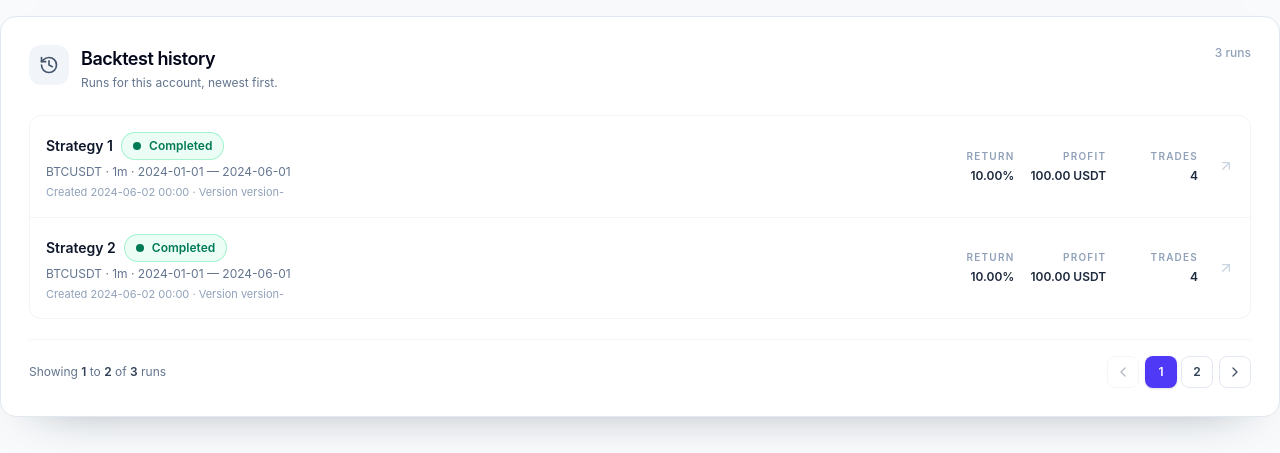
Test: BacktestHistoryList › paginates items and handles page navigation
Check: the heading "Strategy 1" is shown, box 46,136 -> 113,156
Check: the heading "Strategy 2" is shown, box 46,238 -> 116,258
Click the button named "Next page": click(1235, 372) 1219,356 -> 1251,388
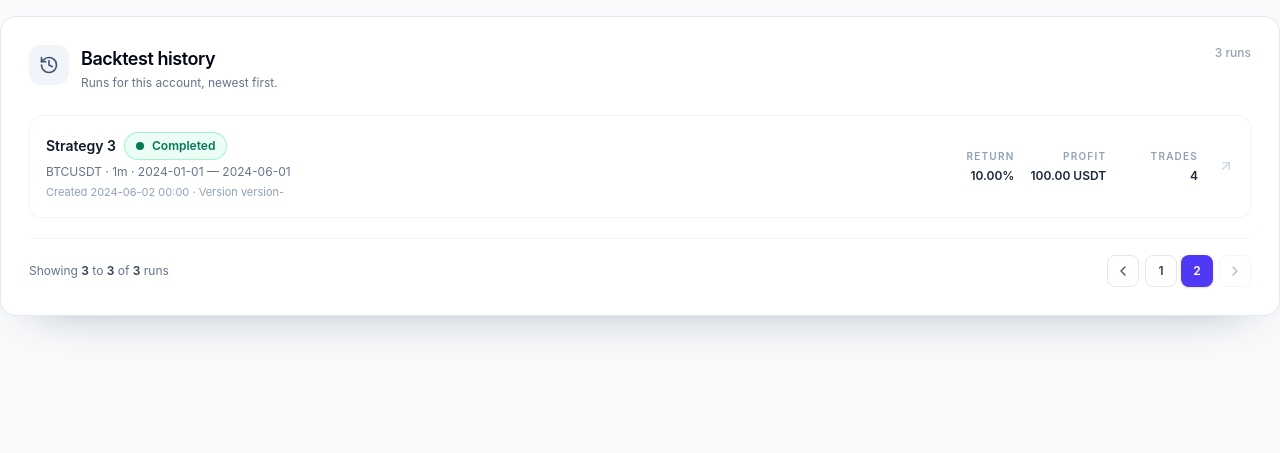
Check: the link "Strategy 1" is gone
Check: the link "Strategy 2" is gone
Check: the heading "Strategy 3" is shown, box 46,136 -> 116,156
Click the button named "Previous page": click(1123, 270) 1107,254 -> 1139,286
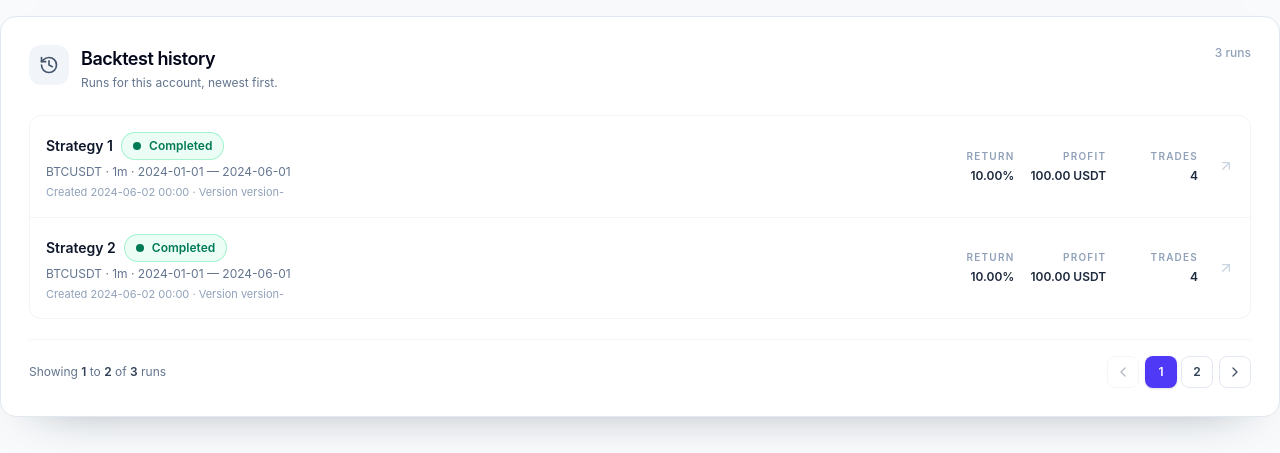
Check: the heading "Strategy 1" is shown, box 46,136 -> 113,156
Check: the heading "Strategy 2" is shown, box 46,238 -> 116,258
